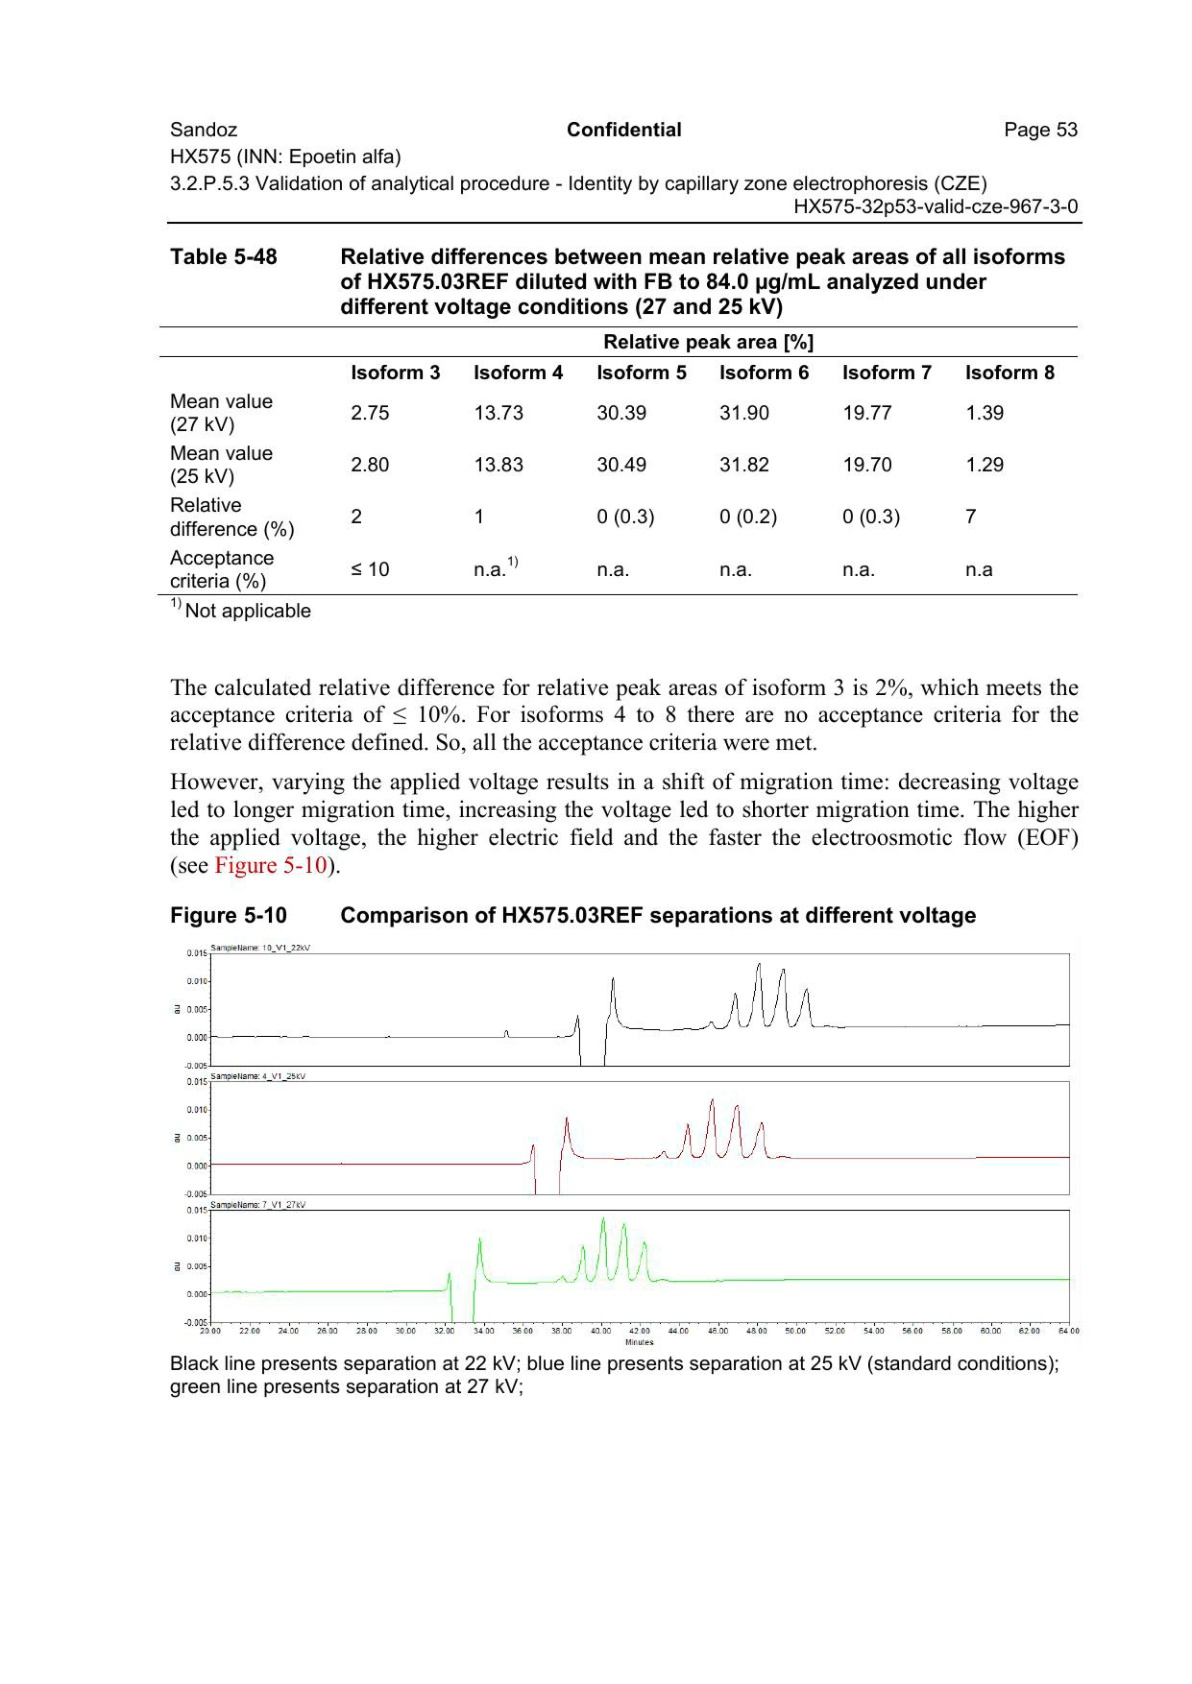partial_lined_merged_cells: (159, 324, 1080, 596)
